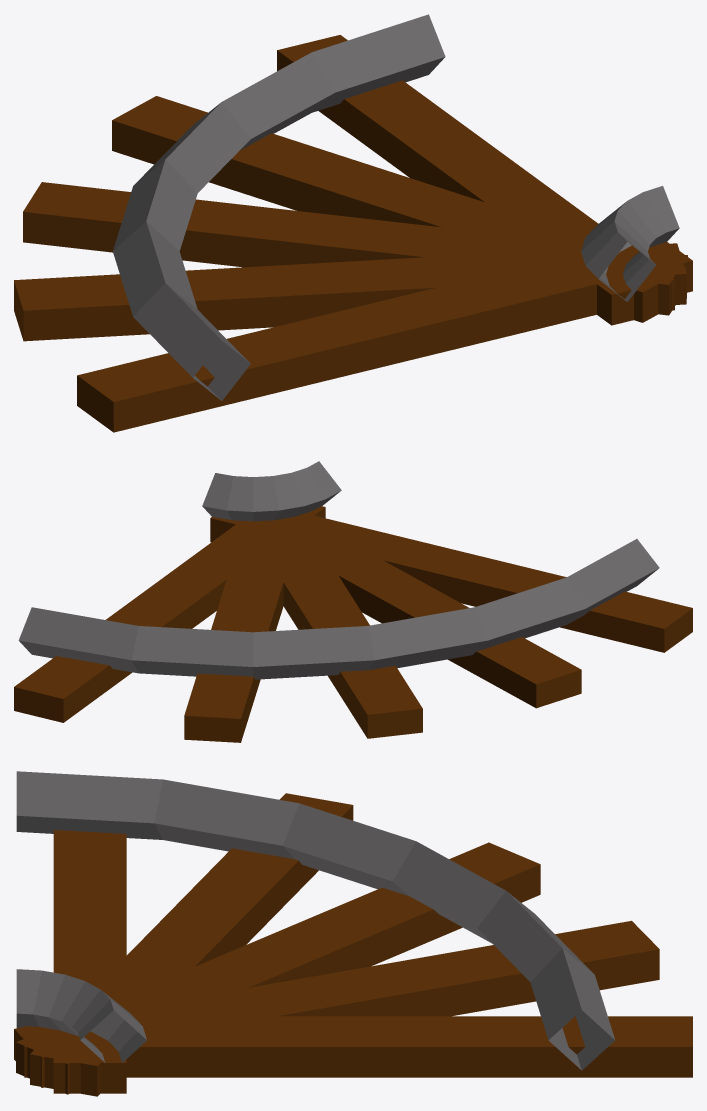
File: Tracks-Curved.fbx
3 views of the same model, one above another, from view 1: azimuth 30°, elevation 25°; view 2: azimuth 150°, elevation 25°; view 3: azimuth 270°, elevation 25° (orthographic). The views are drawn at different scales.
Visible parts, largest first — view 1: Tracks; view 2: Tracks; view 3: Tracks.
Part boxes in pixels (<box>): Tracks: <box>14,14,692,432</box>; Tracks: <box>14,461,692,742</box>; Tracks: <box>14,771,692,1096</box>.
Bounding box in the file's own units: 202 × 27.59 × 203.
